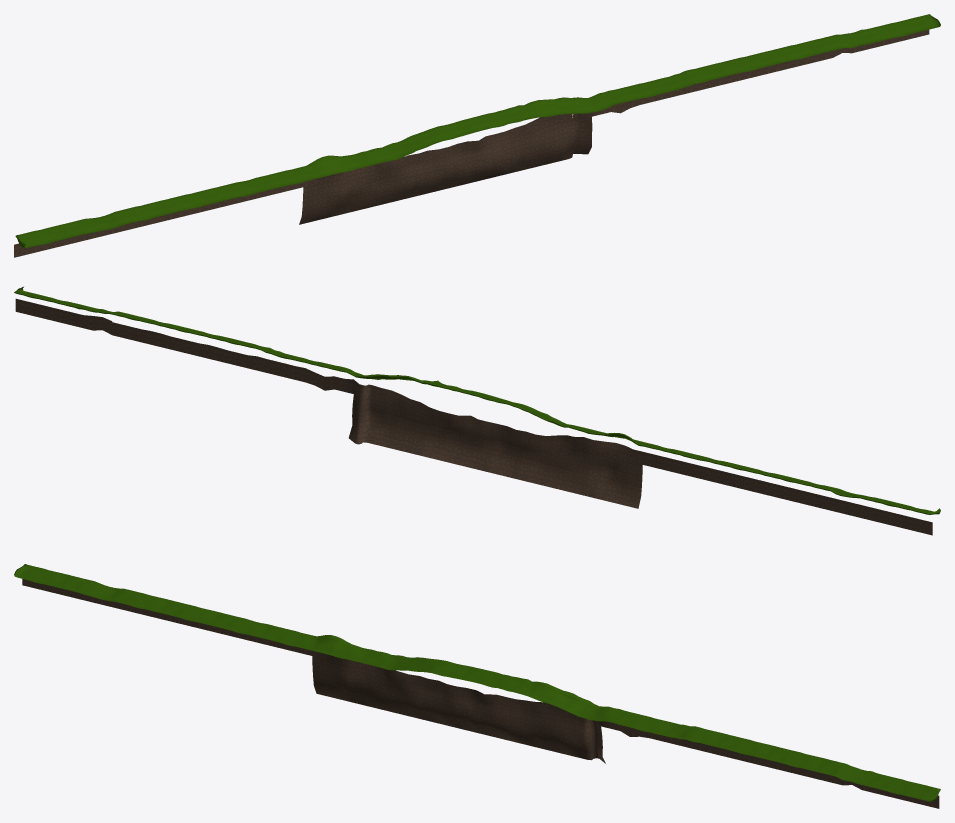
Rendered from Background.FBX.
The picture shows the model from 3 angles, top to bottom: view 1: azimuth 30°, elevation 25°; view 2: azimuth 150°, elevation 25°; view 3: azimuth 330°, elevation 25°; orthographic projection.
Visible parts, largest first — view 1: background, backgroundSub1, backgroundSub2; view 2: backgroundSub1, background, backgroundSub2; view 3: background, backgroundSub1, backgroundSub2.
Boxes of the visible parts, x1,y1,x2,y2 form: background: [15, 14, 940, 248]; backgroundSub1: [14, 110, 601, 257]; backgroundSub2: [601, 29, 929, 114]; backgroundSub1: [344, 378, 932, 535]; background: [14, 286, 940, 514]; backgroundSub2: [15, 298, 344, 391]; background: [14, 564, 940, 801]; backgroundSub1: [22, 579, 610, 763]; backgroundSub2: [610, 722, 939, 808].
Size of what is drawn, in the model's own units: 3496 by 258 by 128.
